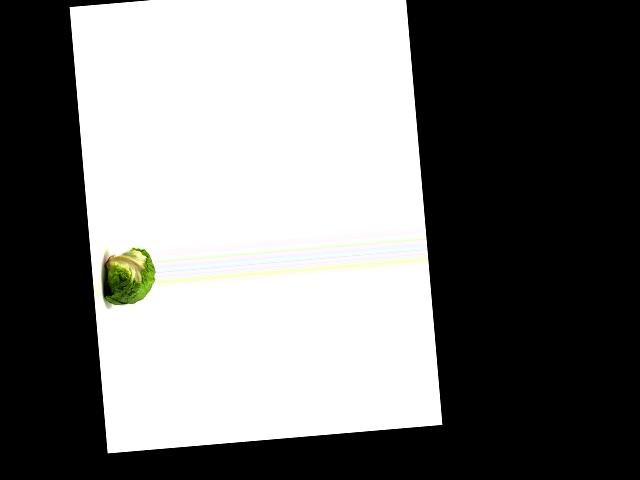lettuce: (97, 245, 157, 307)
